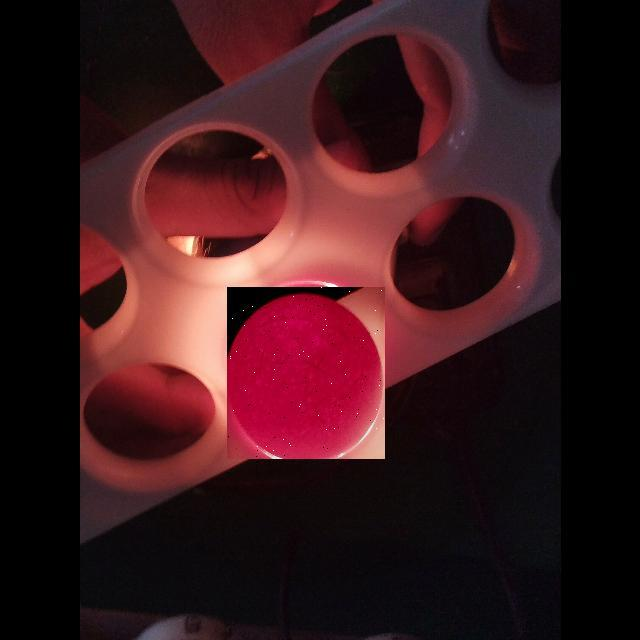Infertile: (227, 287, 385, 459)
